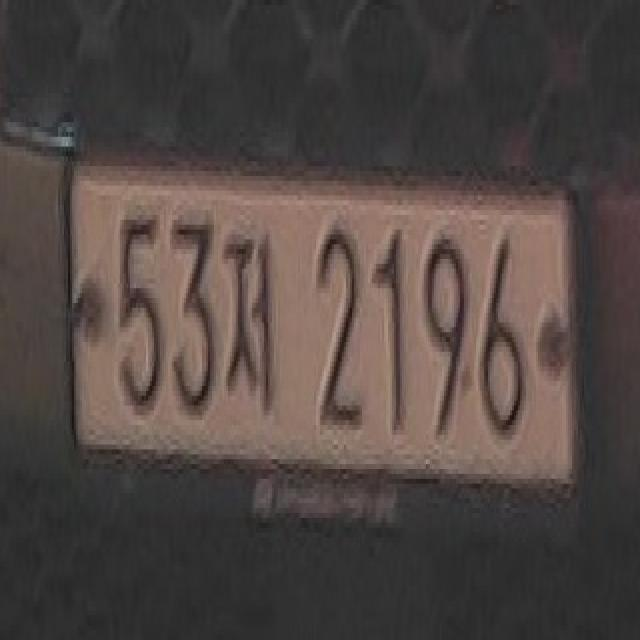1: (366, 200, 414, 450)
2: (302, 210, 362, 450)
3: (162, 200, 218, 420)
5: (108, 200, 166, 445)
6: (476, 225, 532, 469)
9: (422, 210, 466, 479)
jeo: (220, 220, 282, 430)
license_plate: (54, 142, 588, 542)
